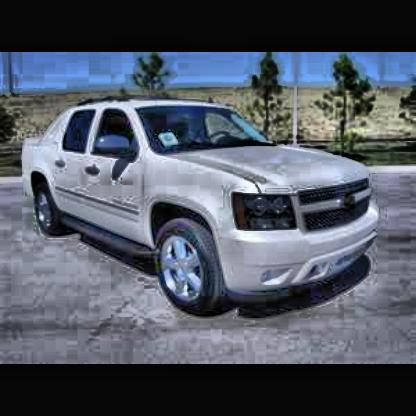Chevrolet Avalanche Crew Cab 2012: (21, 96, 378, 327)
